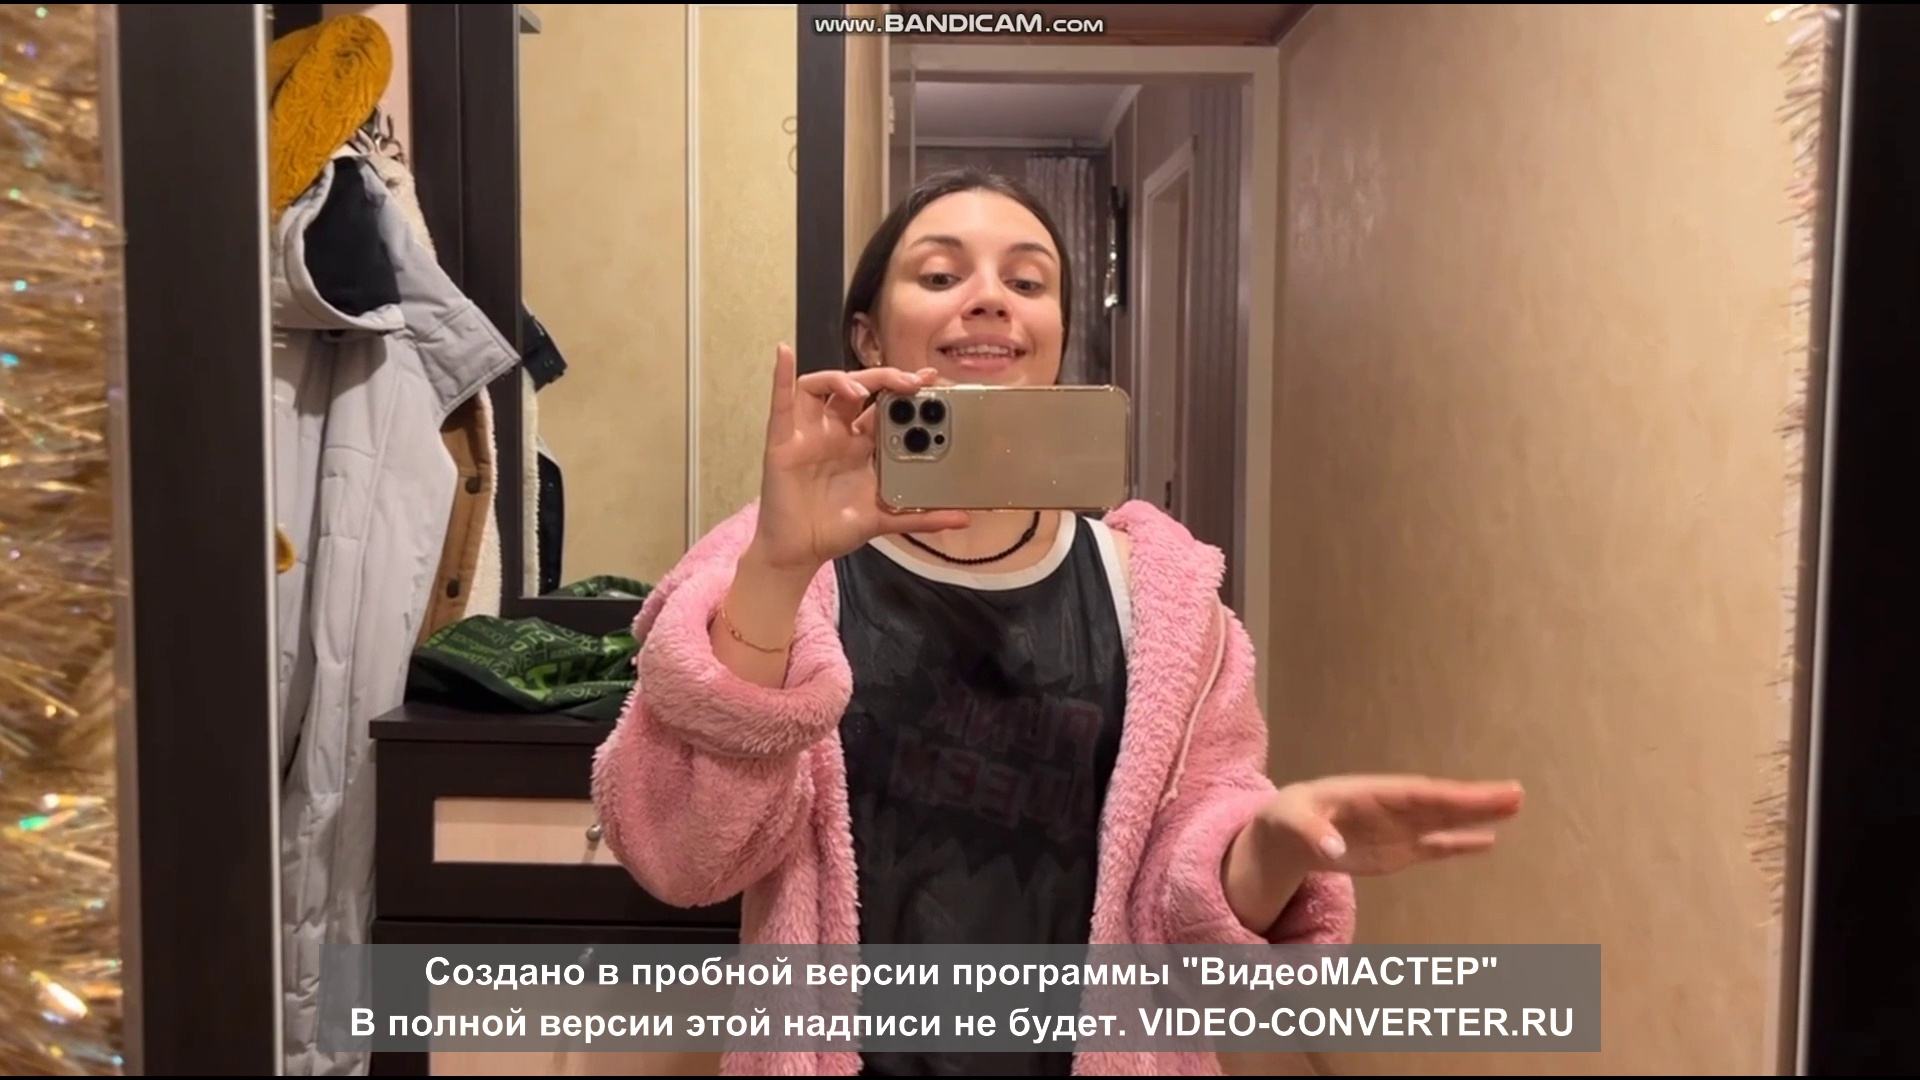Ладонь: (1275, 771, 1526, 873)
